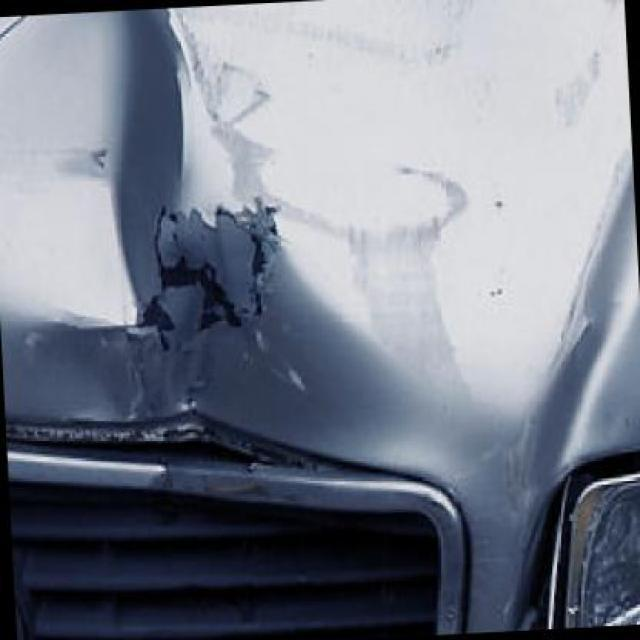dent: (4, 11, 419, 476)
